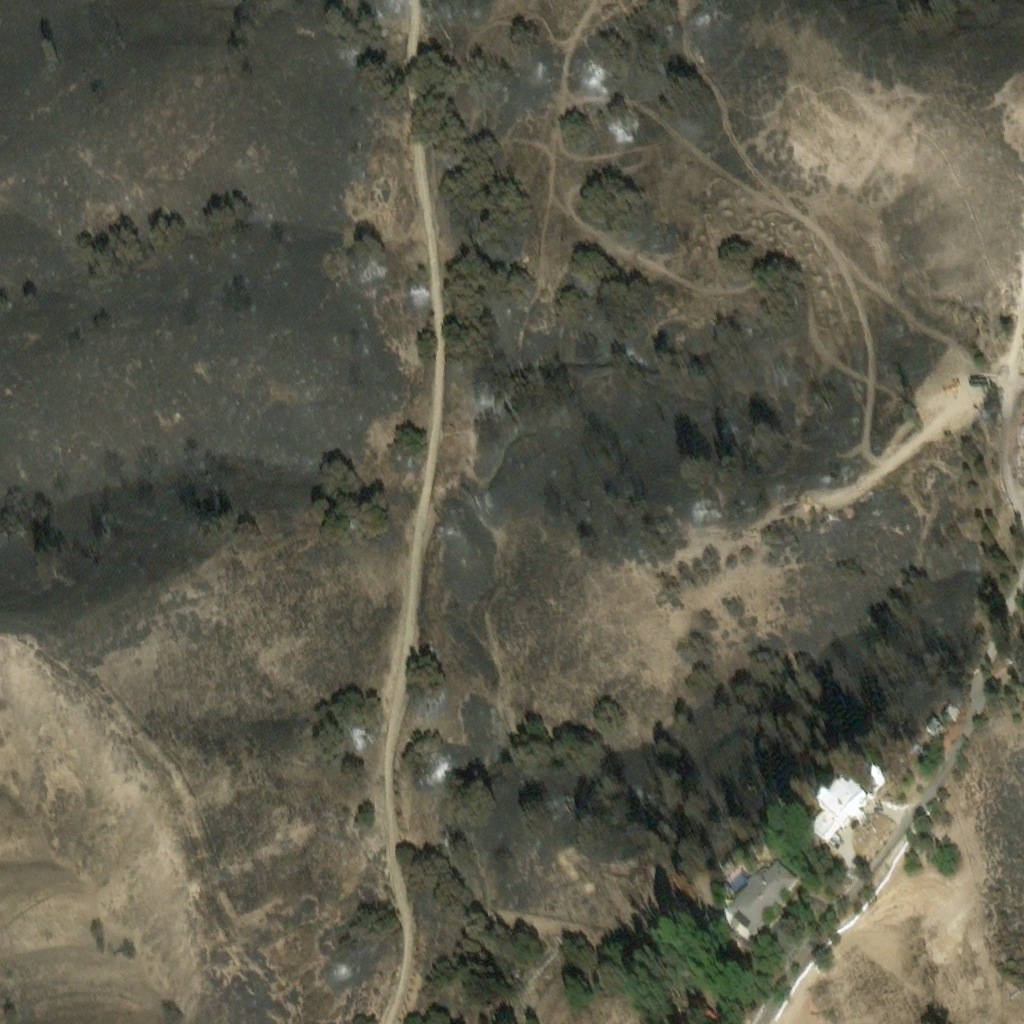0 no-damage: (724, 859, 804, 940), (812, 787, 871, 845), (681, 995, 732, 1023), (927, 717, 944, 736), (943, 703, 960, 721), (875, 775, 889, 790)
